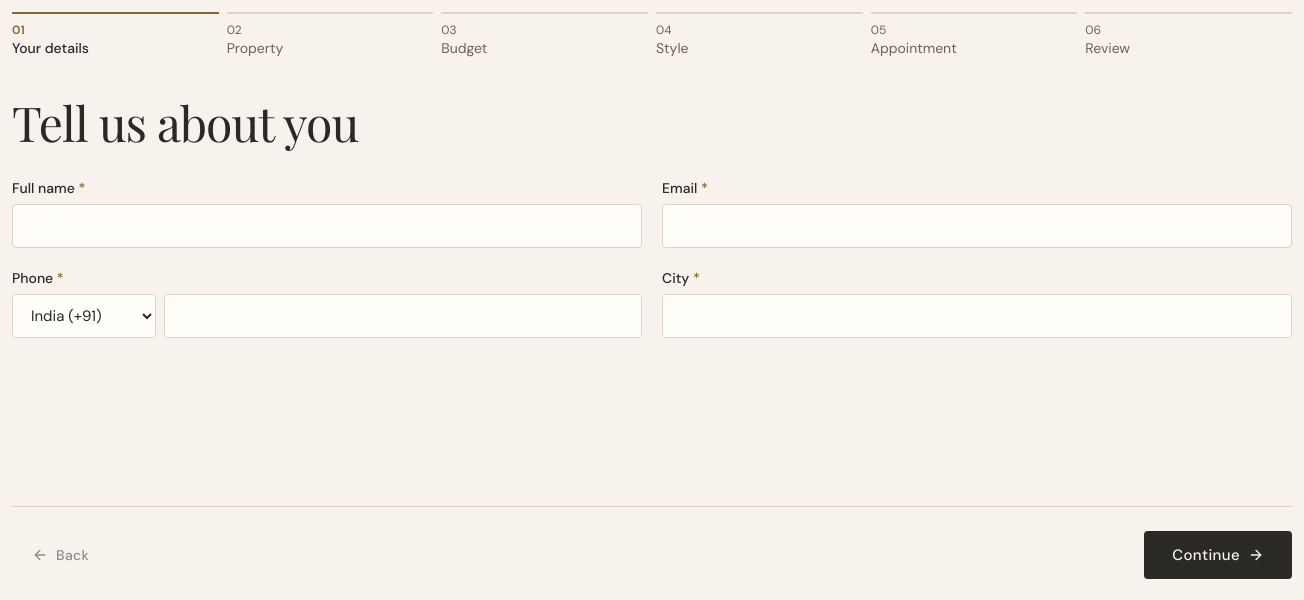
it: BookingForm › does not advance past step one until its fields are valid
Click the button "Continue": (1218, 555) [1144,531,1292,579]
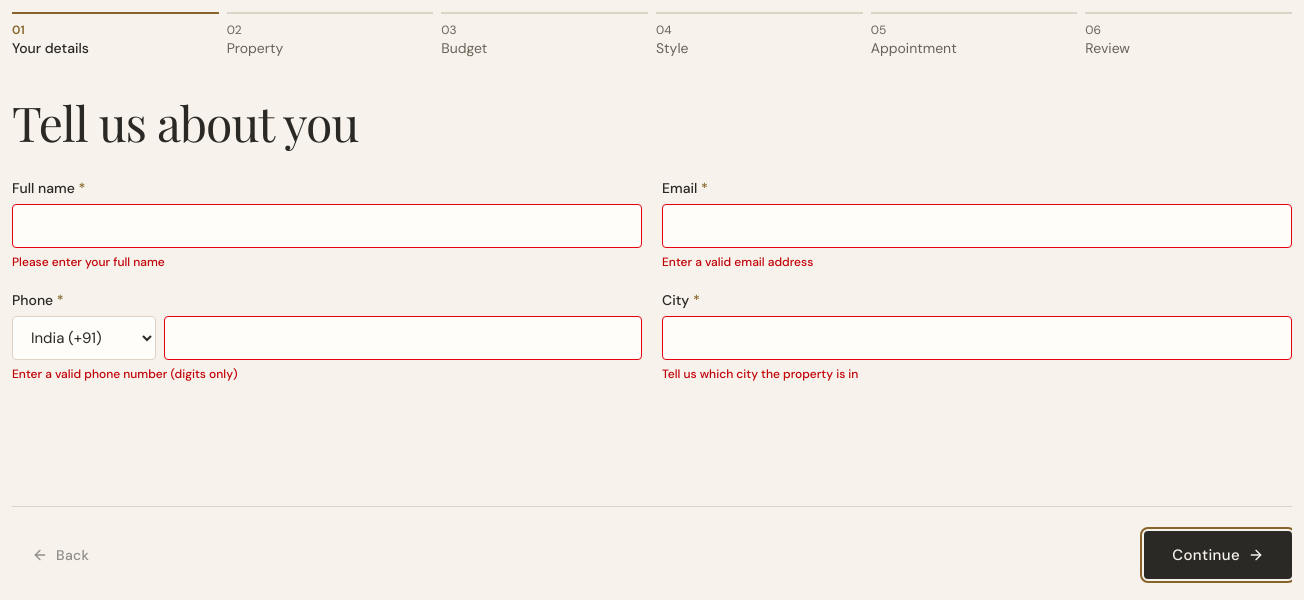
Expected: the heading "Tell us about you" is shown, [12,90,358,154]
Expected: the text "Please enter your full name" is shown, [12,254,165,270]
